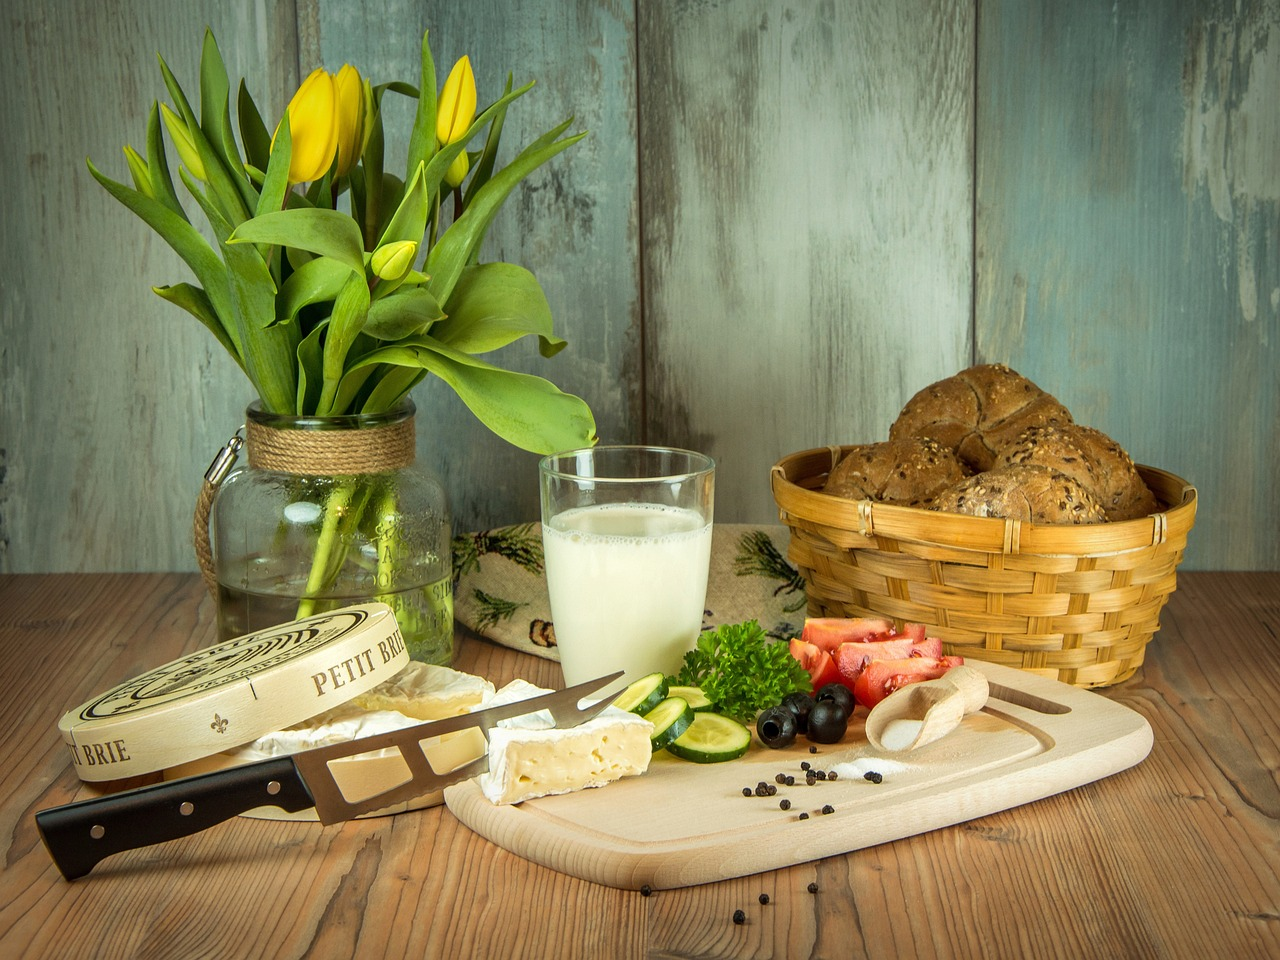knife: (33, 665, 641, 891)
